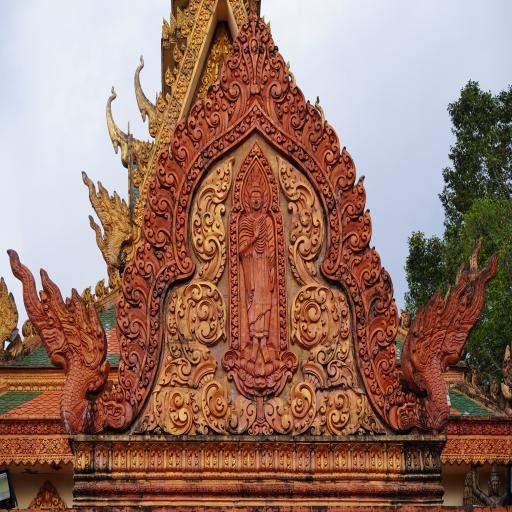la: (276, 154, 327, 287), (190, 153, 234, 281), (291, 285, 340, 362), (176, 282, 228, 350), (115, 292, 151, 348), (220, 60, 249, 122), (155, 387, 191, 433), (262, 62, 289, 122), (120, 259, 151, 308), (326, 389, 363, 430), (201, 381, 230, 432), (288, 380, 316, 432), (368, 304, 400, 349), (330, 141, 357, 194), (341, 171, 368, 223), (284, 76, 306, 138), (203, 83, 229, 130), (364, 272, 393, 314), (346, 208, 373, 252), (156, 149, 184, 190), (318, 118, 340, 170), (148, 176, 175, 218), (141, 208, 172, 244), (355, 246, 381, 288), (186, 102, 210, 147), (228, 390, 254, 431), (117, 334, 145, 372), (171, 120, 194, 165), (161, 355, 191, 388), (263, 395, 289, 432), (328, 360, 360, 390), (305, 100, 323, 152), (372, 341, 398, 377), (136, 241, 160, 278), (118, 357, 138, 392), (116, 384, 137, 415), (260, 443, 279, 475), (168, 442, 186, 474), (316, 443, 334, 475), (370, 445, 388, 477), (333, 444, 352, 474), (351, 446, 371, 474), (77, 443, 95, 474), (279, 443, 297, 474), (205, 442, 224, 471), (298, 445, 317, 474), (186, 442, 204, 472), (224, 443, 242, 473), (242, 443, 260, 473), (136, 411, 160, 433), (387, 447, 405, 476), (384, 370, 402, 398), (131, 444, 149, 472), (94, 444, 113, 470), (151, 444, 167, 474), (424, 446, 440, 476), (267, 36, 280, 70), (113, 445, 130, 470), (406, 447, 420, 477), (205, 54, 221, 80), (166, 332, 181, 359), (230, 36, 242, 69), (364, 410, 382, 432), (175, 75, 189, 103), (256, 17, 270, 45), (212, 40, 232, 59), (191, 24, 204, 52), (166, 100, 180, 126), (2, 440, 25, 455), (165, 312, 179, 336), (26, 440, 50, 454), (474, 440, 498, 454), (183, 49, 197, 72), (198, 74, 212, 97), (249, 1, 257, 40), (239, 18, 252, 42), (190, 390, 203, 414), (450, 440, 474, 453), (50, 440, 72, 453), (198, 11, 212, 31), (108, 271, 122, 291), (82, 282, 94, 304), (194, 411, 206, 433), (216, 24, 229, 44), (250, 105, 261, 128), (339, 339, 350, 362), (234, 4, 246, 25), (324, 190, 337, 209), (361, 354, 372, 376), (354, 295, 365, 317), (175, 206, 187, 226), (349, 279, 361, 299), (330, 223, 341, 244), (136, 379, 146, 402), (141, 363, 151, 386), (340, 295, 350, 318), (280, 133, 292, 152), (374, 389, 386, 408), (498, 440, 512, 456), (96, 278, 107, 298), (146, 346, 156, 368), (149, 328, 160, 348), (150, 308, 160, 330), (176, 240, 187, 260), (229, 124, 240, 144), (328, 208, 339, 228), (156, 248, 168, 266), (197, 150, 209, 168), (367, 372, 379, 390), (339, 266, 351, 284), (150, 291, 160, 312), (341, 317, 351, 338), (179, 188, 190, 207), (303, 151, 314, 170), (164, 264, 176, 281), (270, 126, 282, 143), (156, 274, 166, 294), (218, 132, 229, 150), (319, 176, 330, 194), (316, 410, 325, 432), (472, 420, 484, 436), (168, 294, 177, 315), (183, 173, 194, 190), (48, 420, 61, 434), (175, 224, 185, 242), (208, 139, 218, 157), (240, 117, 250, 135), (357, 318, 366, 338), (446, 420, 458, 435), (484, 420, 495, 436), (294, 142, 304, 159), (358, 337, 368, 354), (330, 244, 340, 261), (10, 420, 22, 434), (35, 420, 47, 434), (458, 420, 470, 434), (497, 420, 508, 435), (313, 163, 322, 181), (320, 392, 328, 412), (204, 0, 216, 13), (22, 420, 34, 433), (190, 162, 200, 177), (262, 116, 270, 134), (0, 420, 10, 433), (252, 141, 260, 157), (230, 292, 238, 306), (277, 231, 285, 245), (277, 239, 285, 253), (279, 312, 287, 326), (234, 197, 241, 212), (231, 303, 239, 316), (278, 302, 286, 315), (260, 152, 267, 166), (280, 336, 287, 350), (443, 440, 450, 454), (174, 266, 182, 278), (231, 336, 239, 348), (230, 325, 238, 337), (231, 314, 239, 326), (230, 284, 238, 296), (230, 272, 238, 284), (230, 262, 238, 274), (264, 162, 272, 174), (270, 180, 278, 192), (278, 262, 286, 274), (278, 272, 286, 284), (278, 282, 286, 294), (280, 324, 288, 336), (231, 208, 238, 221), (278, 251, 285, 264), (279, 291, 286, 304), (4, 456, 14, 465), (37, 455, 46, 465), (462, 455, 471, 465), (494, 456, 502, 467), (230, 241, 237, 253), (234, 175, 240, 189), (276, 208, 282, 222), (277, 220, 284, 232), (28, 456, 37, 465), (486, 456, 495, 465), (21, 455, 29, 465), (46, 456, 54, 466), (53, 455, 61, 465), (455, 456, 463, 466), (471, 456, 479, 466), (478, 456, 486, 466), (502, 456, 509, 467), (231, 252, 237, 264), (230, 229, 236, 241), (242, 159, 248, 171), (246, 152, 252, 164), (268, 170, 274, 182), (272, 189, 278, 201), (271, 198, 277, 210), (61, 456, 70, 464), (440, 455, 448, 464), (238, 168, 244, 179), (448, 456, 456, 464), (234, 189, 240, 199), (13, 456, 21, 463), (244, 0, 249, 11), (230, 219, 235, 230), (70, 456, 76, 465), (0, 455, 4, 465)
lua: (101, 83, 132, 169), (126, 52, 160, 128), (314, 94, 327, 126), (132, 164, 146, 190), (164, 65, 177, 92), (286, 58, 299, 84), (140, 139, 152, 165), (180, 19, 192, 43), (156, 92, 169, 112), (150, 116, 160, 142), (174, 44, 184, 66), (188, 0, 199, 16), (173, 66, 180, 79), (189, 15, 196, 27), (156, 114, 163, 126), (165, 92, 172, 103), (181, 42, 187, 54), (140, 166, 146, 176)
ran: (396, 232, 501, 436), (6, 248, 110, 434), (78, 169, 131, 275), (0, 274, 20, 364), (501, 342, 512, 417), (240, 41, 254, 84), (256, 40, 266, 85), (168, 12, 177, 33), (175, 5, 184, 26), (161, 16, 170, 36)
than: (238, 182, 277, 368), (461, 463, 508, 508), (160, 126, 172, 149)
